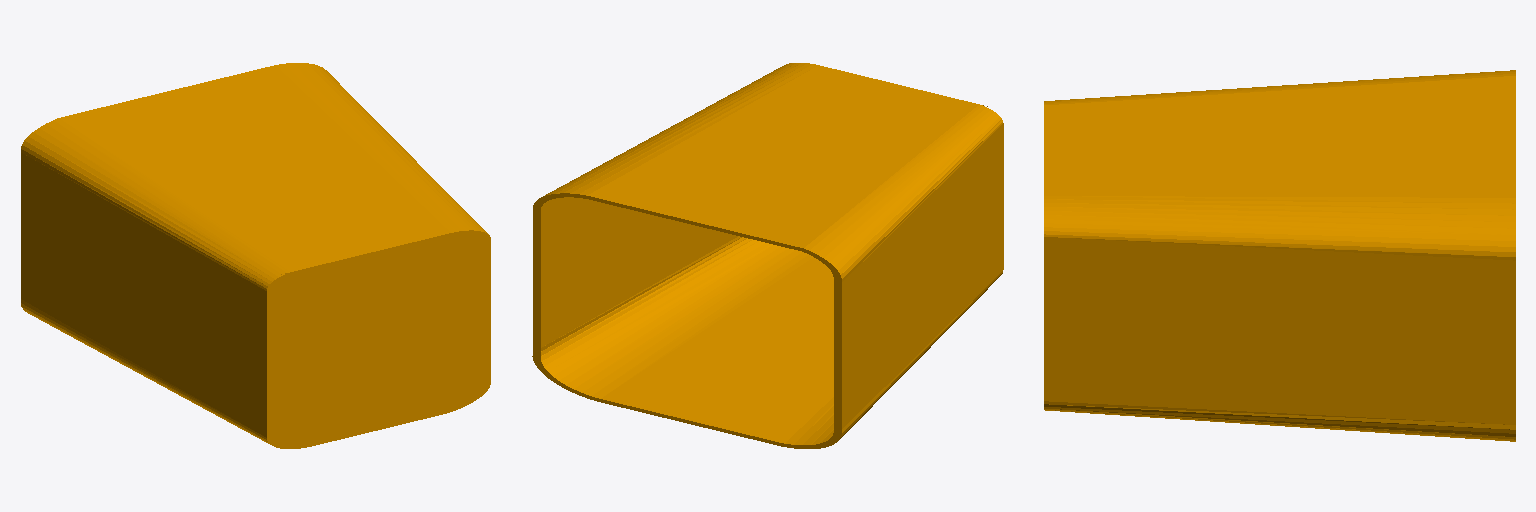
robot.urdf — model.urdf:
<?xml version="0.0" ?>
<robot name="model.urdf">
  <link name="model">
    <visual>
      <origin rpy="0 0 0" xyz="0 0 0.0"/>
      <geometry>
        <mesh filename="model_normalized.obj" scale="1.4 1.1 0.57"/>
      </geometry>
      <material name="blue">
      </material>
    </visual>
      <inertial>
         <origin rpy="0 0 0" xyz="0 0 0"/>
         <mass value="0.5"/>
         <inertia ixx="1" ixy="0" ixz="0" iyy="1" iyz="0" izz="1"/>
      </inertial>
    <collision>
      <origin rpy="0 0 0" xyz="0 0 0.0"/>
      <geometry>
  	<mesh filename="model_normalized_v.obj" scale="1.2 1.1 0.57"/>
      </geometry>
    </collision>
  </link>
</robot>

--- Render facts (derived) ---
The picture shows the robot from 3 angles, left to right: view 1: azimuth 30°, elevation 25°; view 2: azimuth 150°, elevation 25°; view 3: azimuth 270°, elevation 25°; orthographic projection.
Robot: model.urdf — 1 links, 0 joints (none); root link model; default pose: every joint at zero.
Visible links, largest first — view 1: model; view 2: model; view 3: model.
Boxes of the visible links, left/top/right/bottom form: model: left=21, top=63, right=490, bottom=448; model: left=532, top=63, right=1003, bottom=448; model: left=1044, top=70, right=1515, bottom=441.
Size in the robot's own frame: 0.5978 by 0.6817 by 0.3753 metres.
1 mesh visuals loaded from 1 distinct referenced files (1 OBJ).